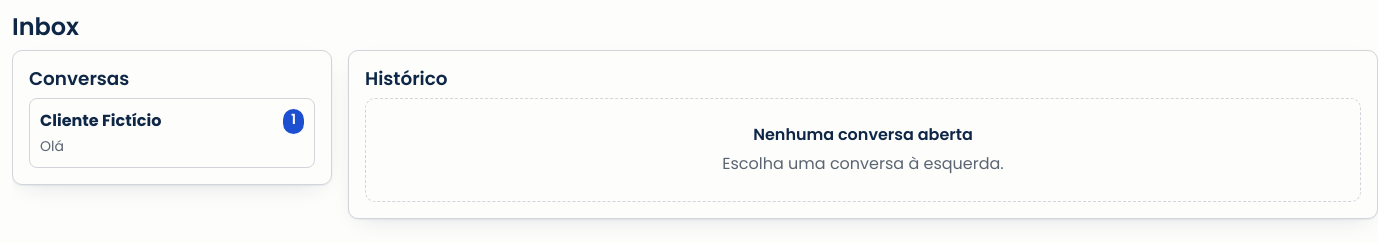
it: F-08 — erro ao abrir conversa não derruba a lista › a lista continua na tela e o erro fica no painel do histórico
Click the button "Cliente Fictício 1 Olá": (101, 120) left=29, top=98, right=315, bottom=168
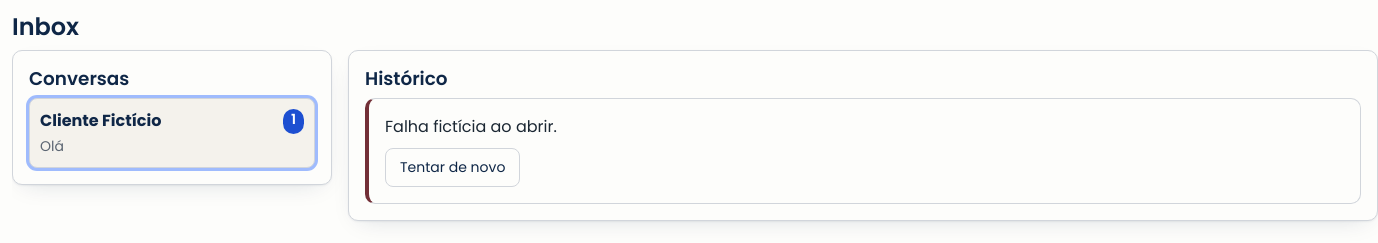
Result: the text "Falha fictícia ao abrir." is shown at left=385, top=115, right=557, bottom=138
